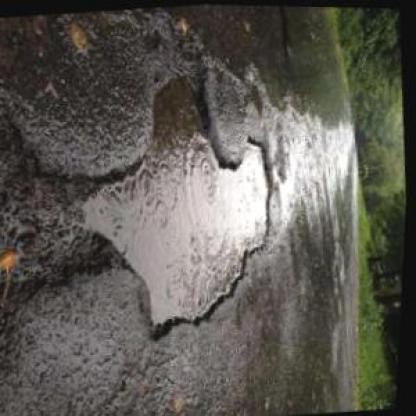pothole: (69, 61, 294, 352)
